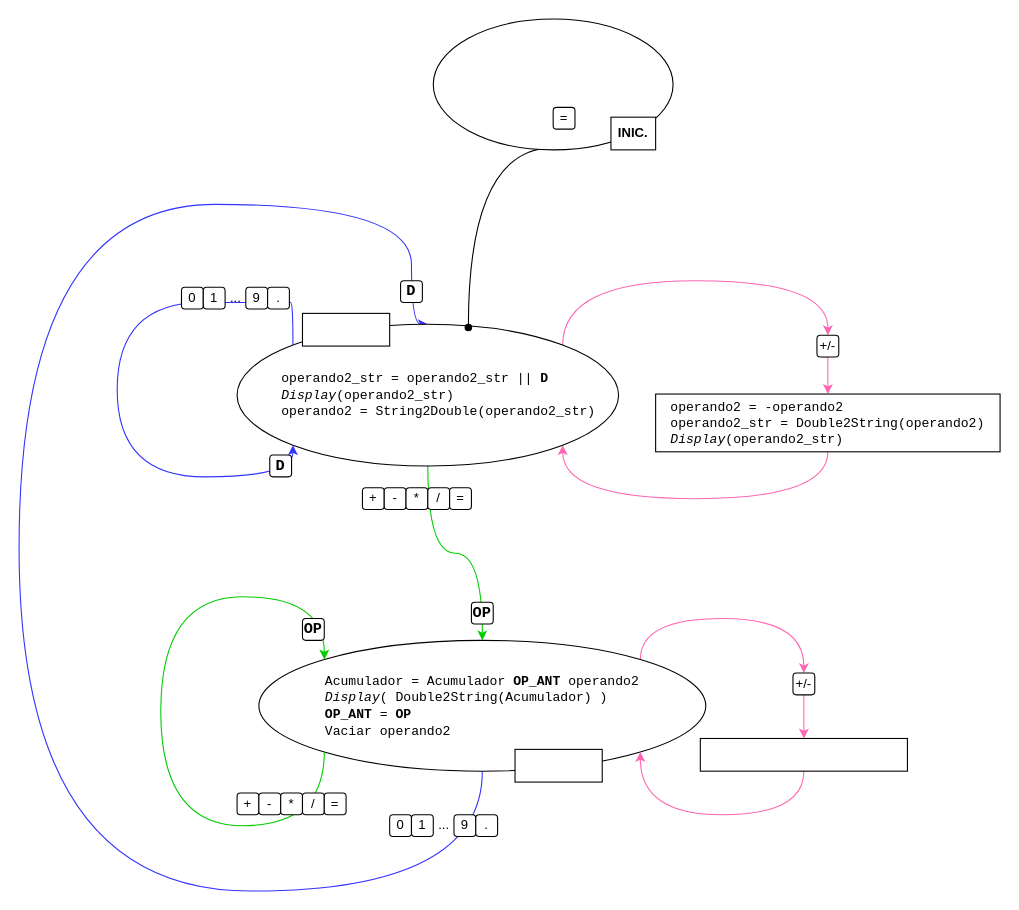
The diagram is 1019 pixels wide and 910 high, and some of its shapes have lost their labels. Each missing label, with the box of its shape:
Acumulador = -Acumulador Display (Acumulador): (699, 737, 907, 771)
NÚMERO: (301, 312, 390, 346)
OPERACIÓN: (514, 748, 602, 782)
operando2_str = " " Display ("0.") operando2 = 0 Acumulador = 0 OP_ANT =: (432, 18, 673, 150)
